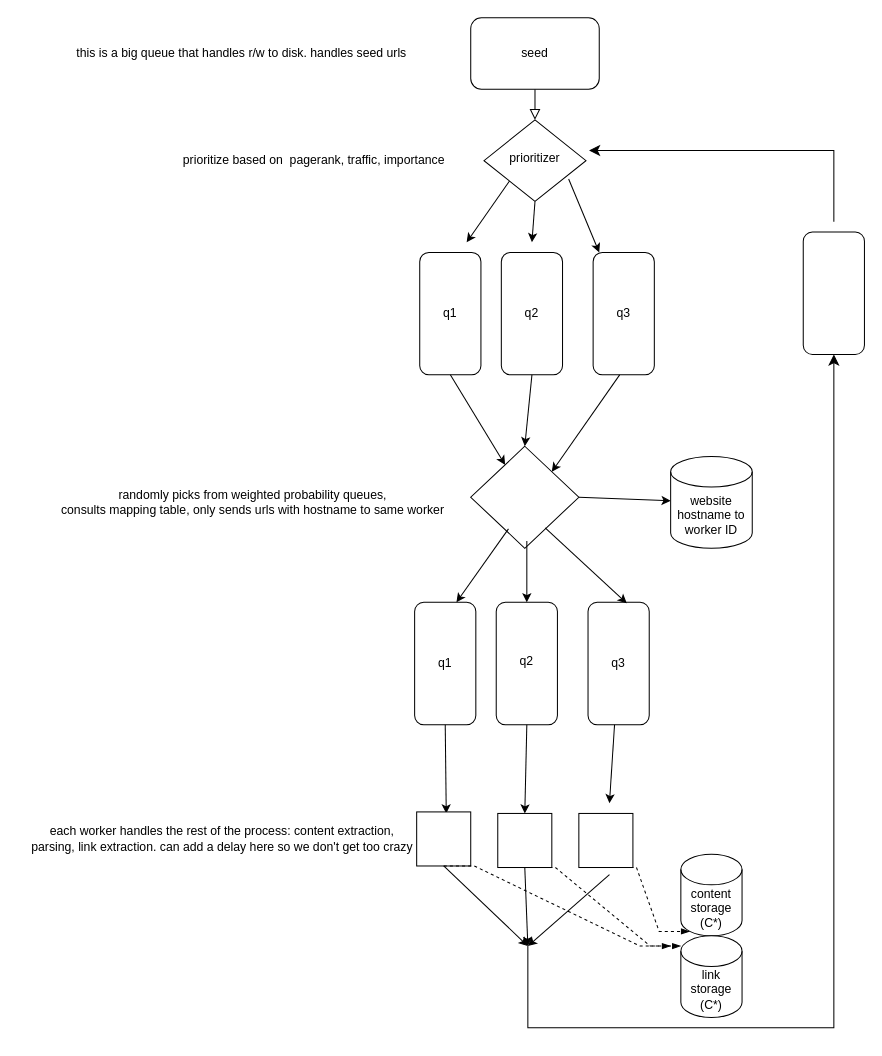
Image size: 882x1056. Some labels were removed from this diagram. Here are the shapes that lost their labels. From the top down, the box of each, then its label:
(802, 231, 864, 354): callback q
(470, 445, 579, 548): politeness router
(416, 811, 471, 866): worker 1
(497, 812, 552, 868): worker 2
(578, 812, 633, 868): worker 3
